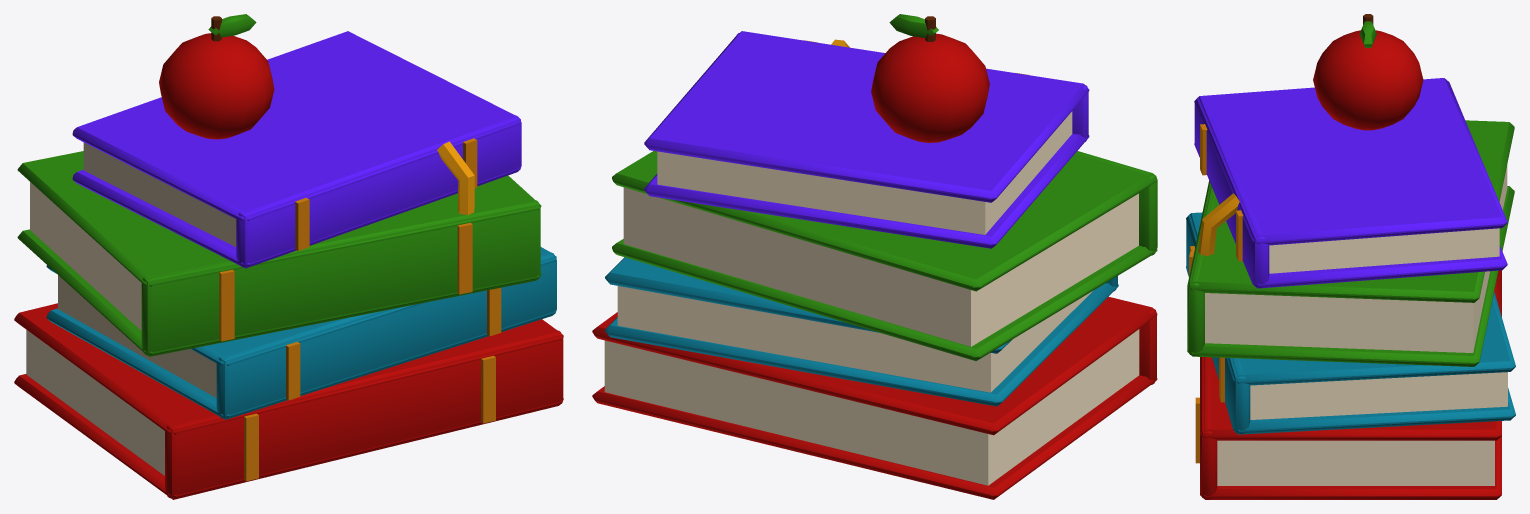
File: BookStack.fbx
3 renders of one model, left to right at view 1: azimuth 30°, elevation 25°; view 2: azimuth 150°, elevation 25°; view 3: azimuth 270°, elevation 25°, orthographic. The views are drawn at different scales.
Visible parts, largest first — view 1: BookStack; view 2: BookStack; view 3: BookStack.
Boxes of the visible parts, x1,y1,x2,y2 form: BookStack: (14,14,563,499); BookStack: (592,14,1157,499); BookStack: (1186,14,1515,499).
Bounding box in the file's own units: 2.65 × 2.34 × 1.91.
